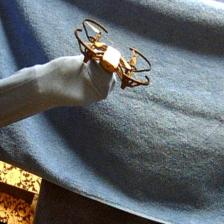drone: (74, 17, 152, 94)
